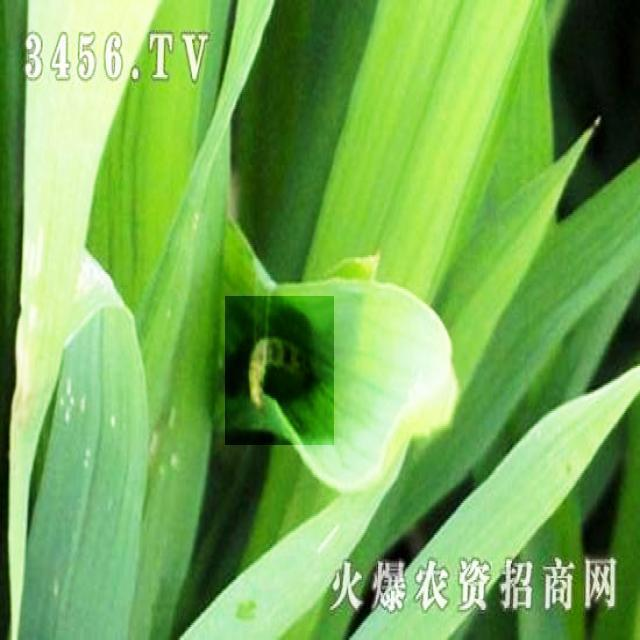leaf-folder: (225, 296, 334, 445)
